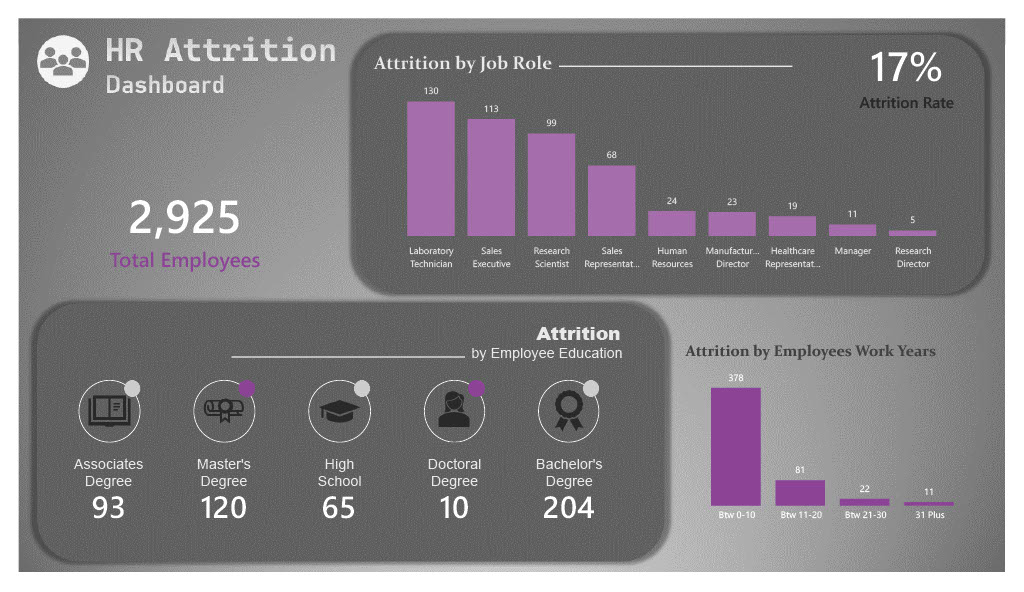

What the dashboard file says about the page in this screenshot:
{"tool":"powerbi","page":{"name":"Job Role Attrition","canvas":[1280,720],"ordinal":1},"visuals":[{"type":"card","fields":{"Values":["All Measures.Total Employees"]},"box":[77.8,195.8,276.5,148.3],"z":0},{"type":"shape","box":[77.8,469.4,80,80.6],"z":1000},{"type":"shape","box":[376.2,469.4,80.6,80.6],"z":2000},{"type":"shape","box":[525.8,469.4,79.2,80.6],"z":3000},{"type":"shape","box":[673.9,469.4,79.2,80.6],"z":4000},{"type":"shape","box":[226.7,469.4,80.6,80.6],"z":5000},{"type":"image","box":[529.9,473.8,70.6,70.6],"z":6000},{"type":"image","box":[82.1,473.8,70.6,70.6],"z":7000},{"type":"image","box":[678.2,473.8,70.6,70.6],"z":8000},{"type":"image","box":[230.4,473.8,70.6,70.6],"z":9000},{"type":"image","box":[381.6,475.2,69.1,69.1],"z":10000},{"type":"clusteredColumnChart","title":"Attrition by Job Role","fields":{"Category":["Data.Job Role"],"Y":["All Measures.Inactive Employees"]},"box":[456.5,41.8,771.8,290.9],"z":11000},{"type":"card","fields":{"Values":["All Measures.% Attrition"]},"box":[1057,21.6,190.1,100.8],"z":12000},{"type":"shape","box":[701.3,41.8,302.4,40.3],"z":13000},{"type":"textbox","box":[653.8,385.9,144,50.4],"z":14000},{"type":"textbox","box":[573.1,417.6,224.6,41.8],"z":15000},{"type":"shape","box":[276.5,419,302.4,40.3],"z":16000},{"type":"textbox","box":[50.4,561.6,133.9,56.2],"z":17000},{"type":"textbox","box":[653.8,561.6,121,56.2],"z":18000},{"type":"textbox","box":[505.4,561.6,121,56.2],"z":19000},{"type":"textbox","box":[355.7,561.6,121,56.2],"z":20000},{"type":"textbox","box":[205.9,561.6,121,56.2],"z":21000},{"type":"shape","box":[136.8,469.4,21.6,21.6],"z":22000},{"type":"shape","box":[285.1,469.4,21.6,21.6],"z":23000},{"type":"shape","box":[434.9,469.4,21.6,21.6],"z":24000},{"type":"shape","box":[583.2,469.4,21.6,21.6],"z":25000},{"type":"shape","box":[731.5,469.4,21.6,21.6],"z":26000},{"type":"card","fields":{"Values":["All Measures.Inactive Employees"]},"box":[60.5,601.9,113.8,59],"z":27000},{"type":"card","fields":{"Values":["All Measures.Inactive Employees"]},"box":[208.8,601.9,113.8,59],"z":28000},{"type":"card","fields":{"Values":["All Measures.Inactive Employees"]},"box":[358.6,601.9,113.8,59],"z":29000},{"type":"card","fields":{"Values":["All Measures.Inactive Employees"]},"box":[508.3,601.9,113.8,59],"z":30000},{"type":"card","fields":{"Values":["All Measures.Inactive Employees"]},"box":[656.6,601.9,113.8,59],"z":31000},{"type":"clusteredColumnChart","title":"Attrition by Employees Work Years","fields":{"Y":["All Measures.Inactive Employees"],"Category":["Data.Working Years Group"]},"box":[859.7,419,394.6,243.4],"z":32000}]}

Visuals, with their boxes in screenshot pixels (x1, y1, x2, y2), scaled from the page's 1280x720 canvas onto the 1024x592 screenshot:
card - All Measures.Total Employees: x1=62, y1=161, x2=283, y2=283
shape: x1=62, y1=386, x2=126, y2=452
shape: x1=301, y1=386, x2=365, y2=452
shape: x1=421, y1=386, x2=484, y2=452
shape: x1=539, y1=386, x2=602, y2=452
shape: x1=181, y1=386, x2=246, y2=452
image: x1=424, y1=390, x2=480, y2=448
image: x1=66, y1=390, x2=122, y2=448
image: x1=543, y1=390, x2=599, y2=448
image: x1=184, y1=390, x2=241, y2=448
image: x1=305, y1=391, x2=361, y2=448
"Attrition by Job Role" clusteredColumnChart: x1=365, y1=34, x2=983, y2=274
card - All Measures.% Attrition: x1=846, y1=18, x2=998, y2=101
shape: x1=561, y1=34, x2=803, y2=68
textbox: x1=523, y1=317, x2=638, y2=359
textbox: x1=458, y1=343, x2=638, y2=378
shape: x1=221, y1=345, x2=463, y2=378
textbox: x1=40, y1=462, x2=147, y2=508
textbox: x1=523, y1=462, x2=620, y2=508
textbox: x1=404, y1=462, x2=501, y2=508
textbox: x1=285, y1=462, x2=381, y2=508
textbox: x1=165, y1=462, x2=262, y2=508
shape: x1=109, y1=386, x2=127, y2=404
shape: x1=228, y1=386, x2=245, y2=404
shape: x1=348, y1=386, x2=365, y2=404
shape: x1=467, y1=386, x2=484, y2=404
shape: x1=585, y1=386, x2=602, y2=404
card - All Measures.Inactive Employees: x1=48, y1=495, x2=139, y2=543
card - All Measures.Inactive Employees: x1=167, y1=495, x2=258, y2=543
card - All Measures.Inactive Employees: x1=287, y1=495, x2=378, y2=543
card - All Measures.Inactive Employees: x1=407, y1=495, x2=498, y2=543
card - All Measures.Inactive Employees: x1=525, y1=495, x2=616, y2=543
"Attrition by Employees Work Years" clusteredColumnChart: x1=688, y1=345, x2=1003, y2=545
